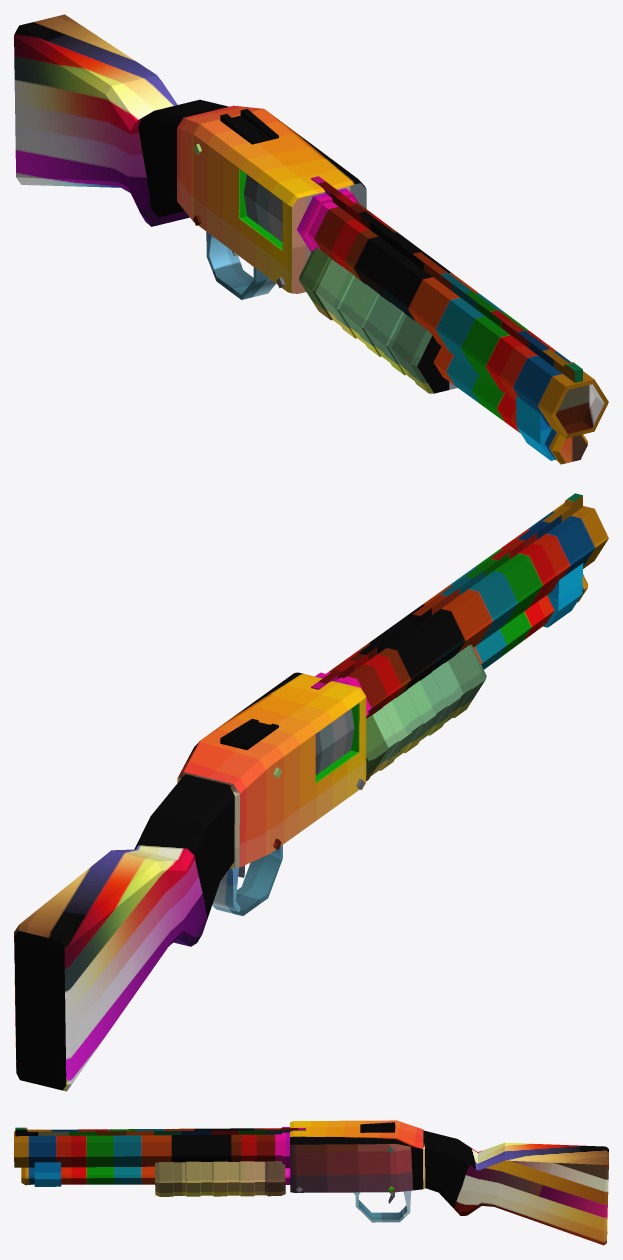
The model's file is Shootgun.FBX.
3 views of the same model, one above another, from view 1: azimuth 30°, elevation 25°; view 2: azimuth 150°, elevation 25°; view 3: azimuth 270°, elevation 25° (orthographic). The views are drawn at different scales.
Visible parts, largest first — view 1: Shootgun; view 2: Shootgun; view 3: Shootgun.
Boxes of the visible parts, x1,y1,x2,y2 form: Shootgun: [14, 14, 608, 464]; Shootgun: [14, 493, 608, 1091]; Shootgun: [14, 1120, 608, 1245].
Size of the model in its own units: 7.92 by 19.14 by 90.98.
Materials: 1 (1 with a texture image).
